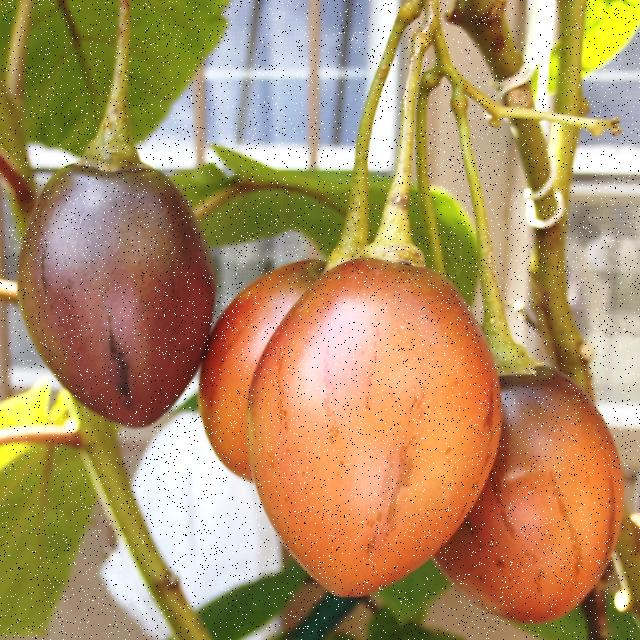Tree Tomato: (266, 258, 480, 640), (18, 159, 214, 516), (442, 354, 619, 640)
